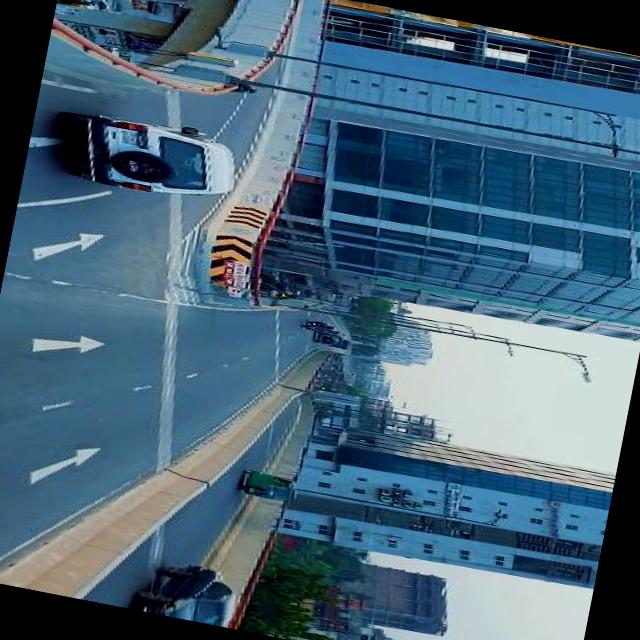car: (51, 100, 252, 216), (316, 330, 346, 347)
motorcycle: (236, 466, 308, 508)
